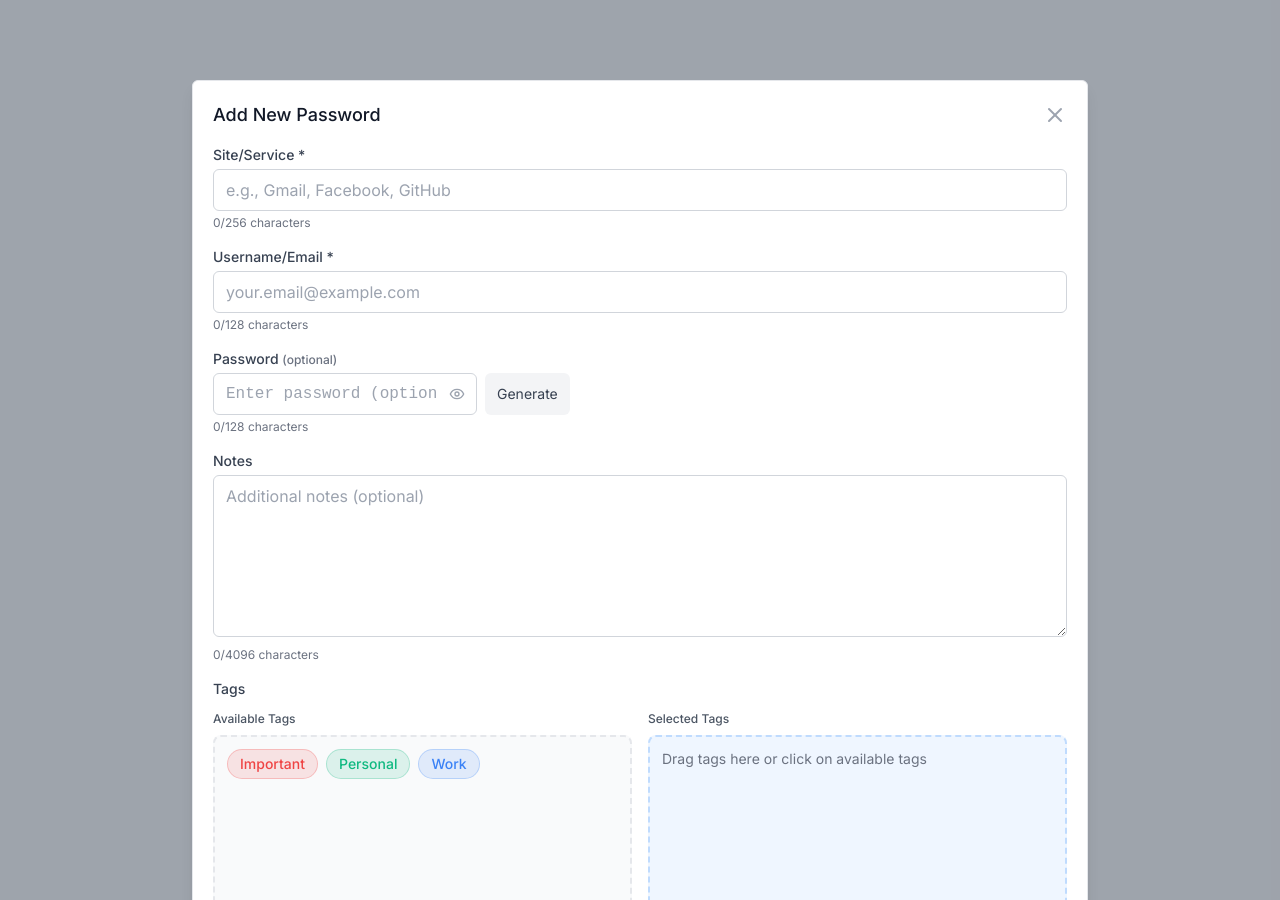
Test: PasswordForm with Drag and Drop Tags › should show tag count when tags are selected
The image size is (1280, 900).
// Select a tag
Click the text "Work" at (449, 764), box [418, 749, 480, 779]
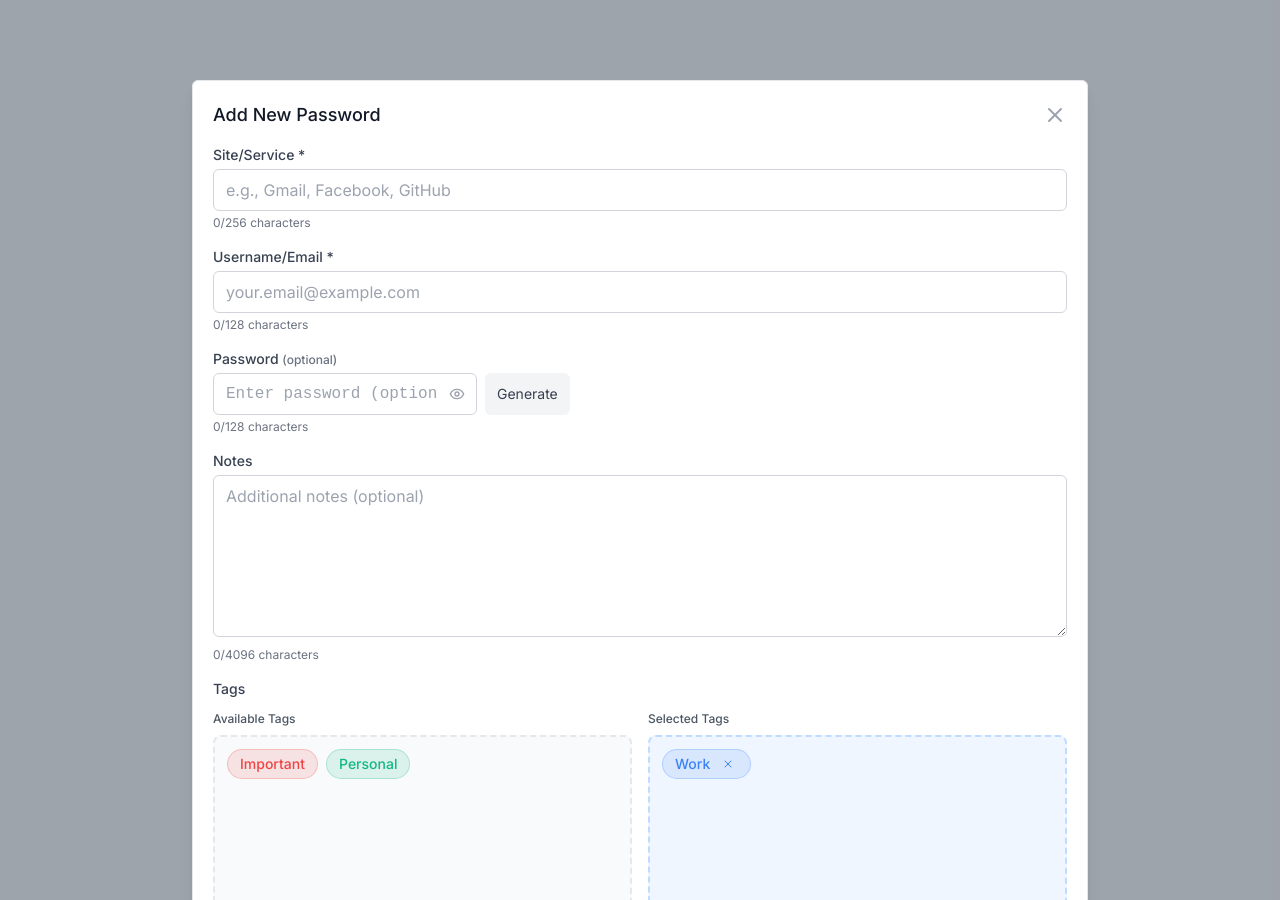
// Select another tag
Click the text "Personal" at (368, 764), box [326, 749, 410, 779]
(page scrolled)
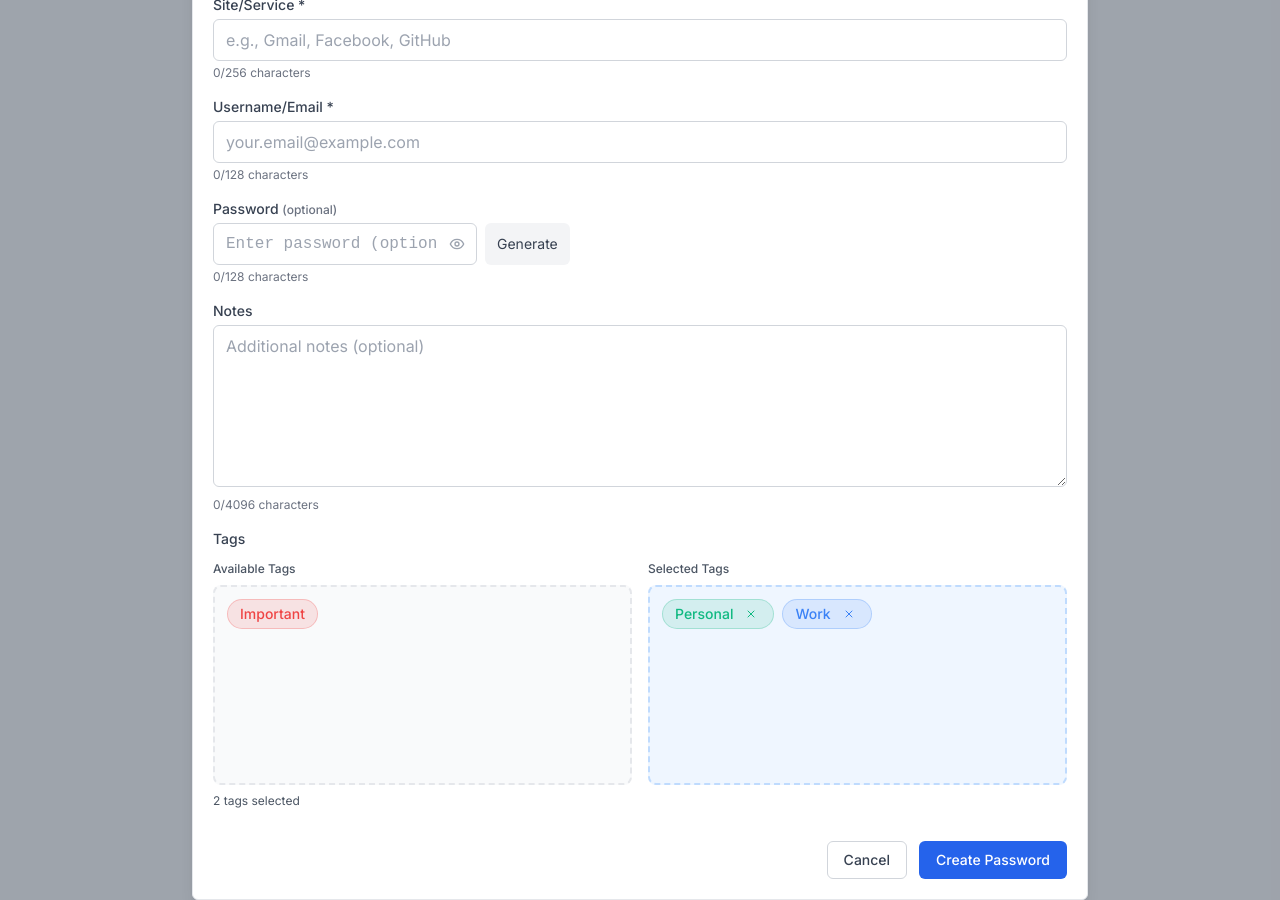
expect the text "2 tags selected" is shown: met, box [213, 793, 300, 808]
